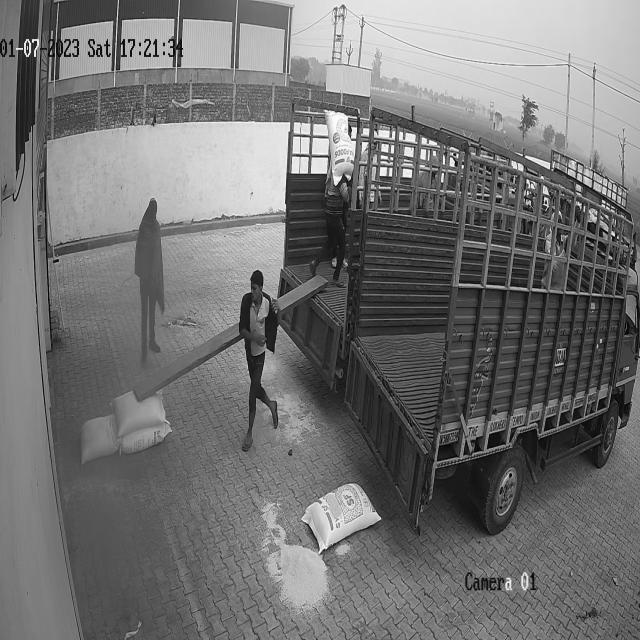sack: (301, 482, 381, 556), (112, 390, 165, 438), (323, 108, 354, 185), (80, 414, 118, 464), (120, 424, 172, 453)
